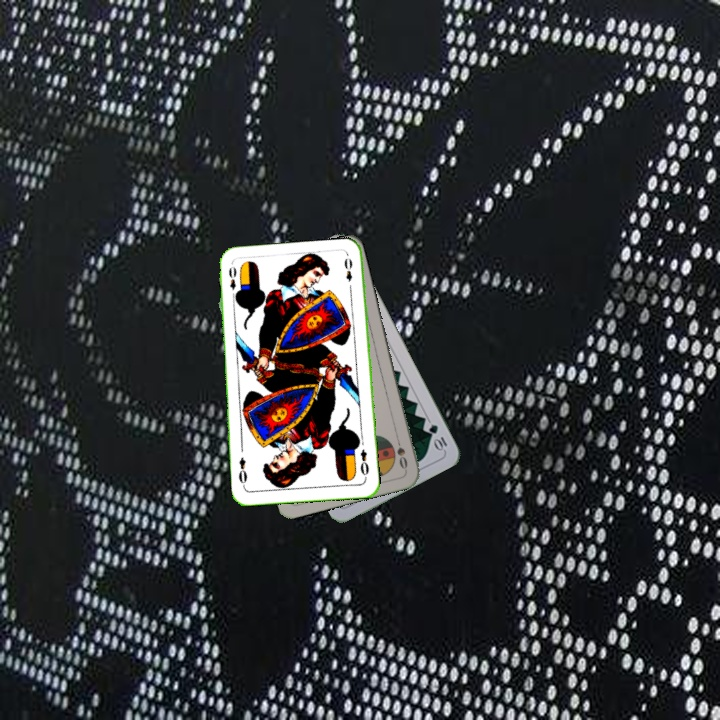EO: (224, 263, 241, 302), (356, 445, 371, 482)
G10: (425, 420, 450, 453)
SO: (392, 433, 410, 473)
